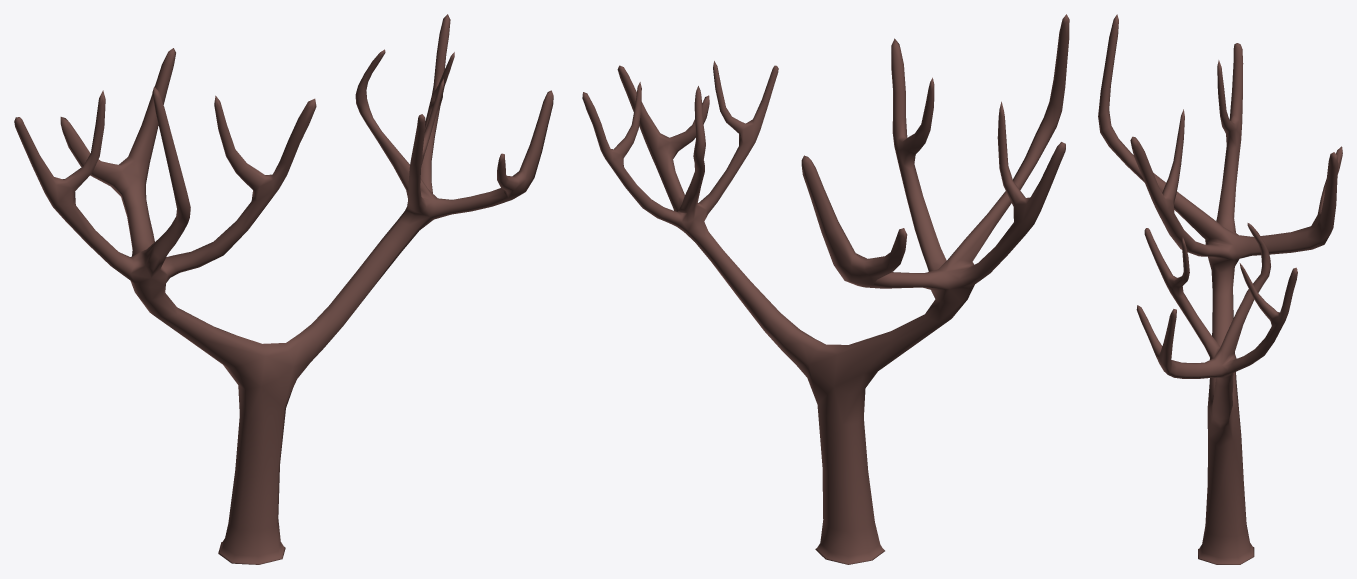
Rendered from CommonTree_Dead_1.glb.
The picture shows the model from 3 angles, left to right: view 1: azimuth 30°, elevation 25°; view 2: azimuth 150°, elevation 25°; view 3: azimuth 270°, elevation 25°; orthographic projection. The views are drawn at different scales.
Parts seen in each view (by area): view 1: CommonTree_Dead_1; view 2: CommonTree_Dead_1; view 3: CommonTree_Dead_1.
Part boxes in pixels (x1,y1,x2,y2): CommonTree_Dead_1: [14, 14, 553, 564]; CommonTree_Dead_1: [582, 14, 1069, 564]; CommonTree_Dead_1: [1098, 14, 1342, 564].
Bounding box in the file's own units: 2.12 × 2.22 × 1.04.
